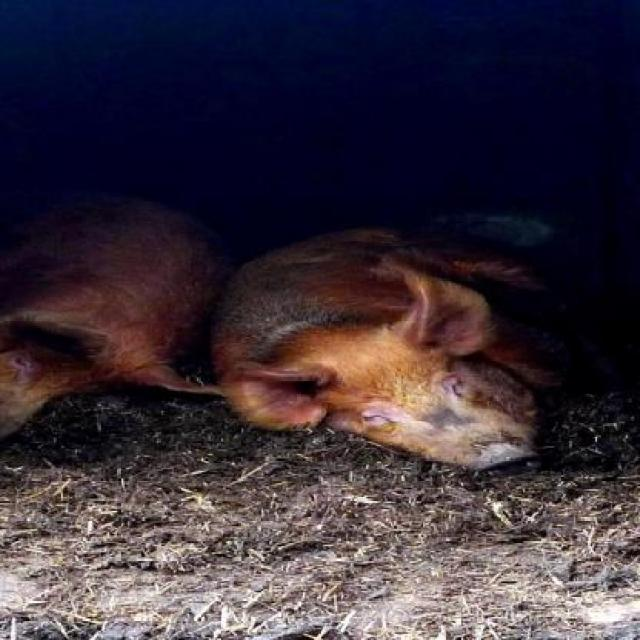pig: (204, 228, 576, 476), (0, 187, 225, 438)
